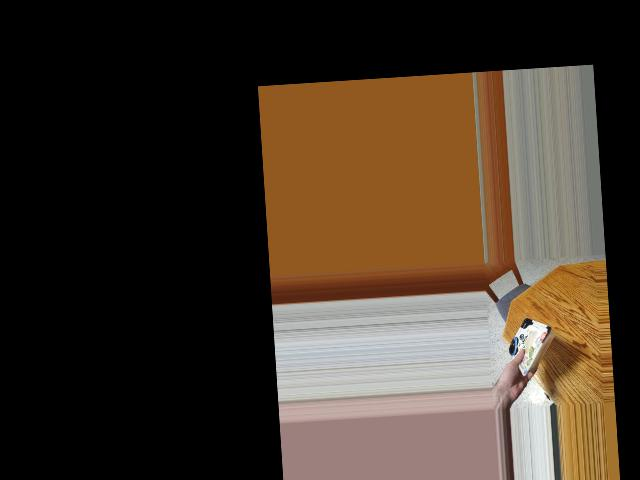cheese: (505, 312, 565, 372)
